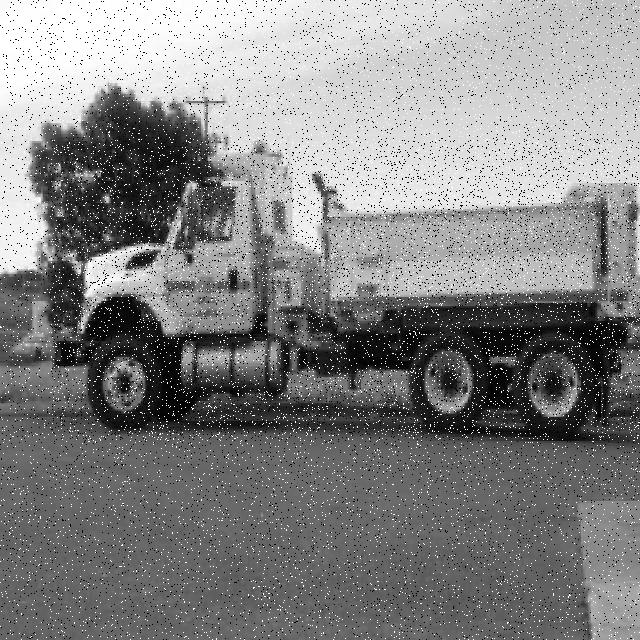Truck- Multi-Axle: (51, 139, 640, 441)
